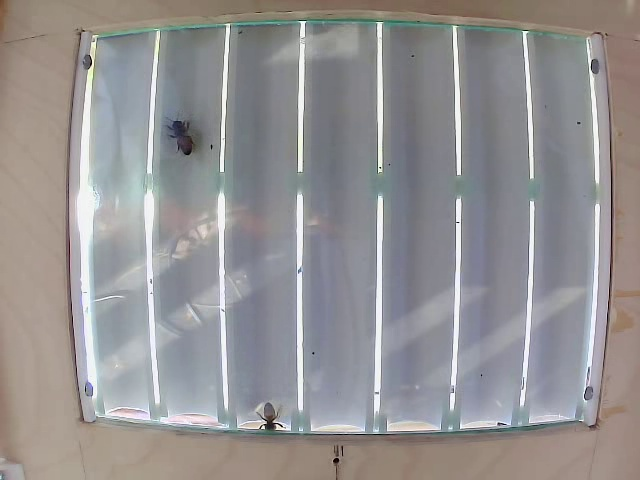bee: (157, 105, 201, 168), (256, 399, 297, 445)
